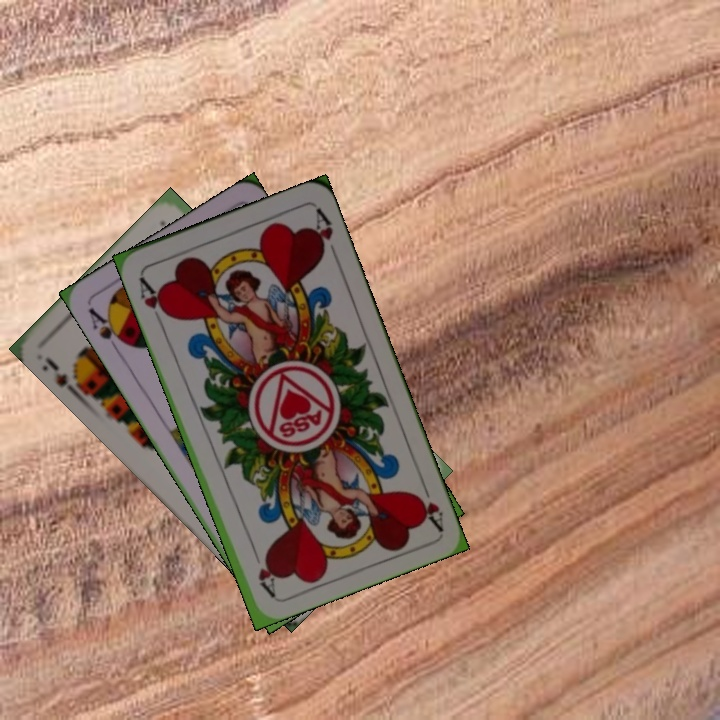HA: (134, 272, 172, 328), (410, 474, 446, 532)
S9: (38, 353, 87, 400)
SA: (84, 303, 131, 356)
